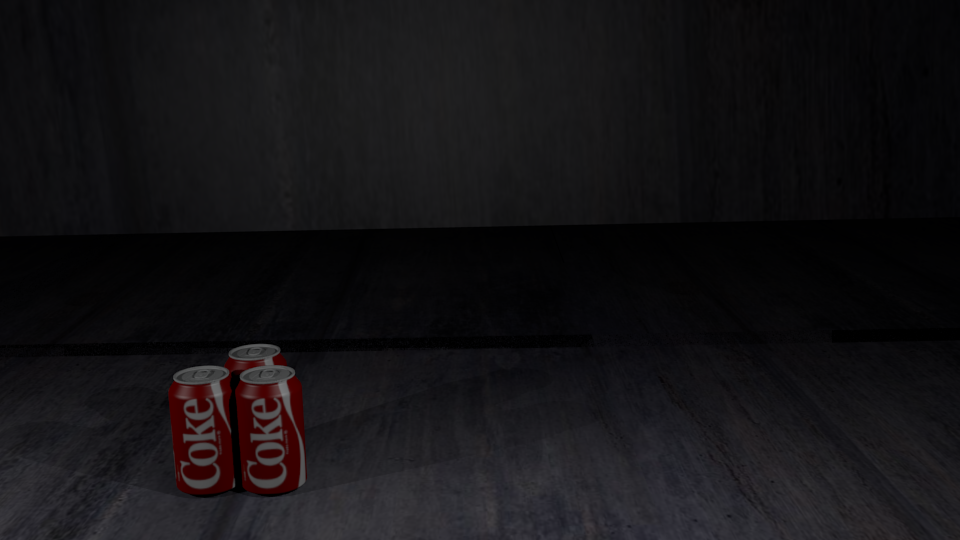cola_can: (168, 366, 238, 491), (235, 366, 304, 489), (224, 344, 285, 462)
